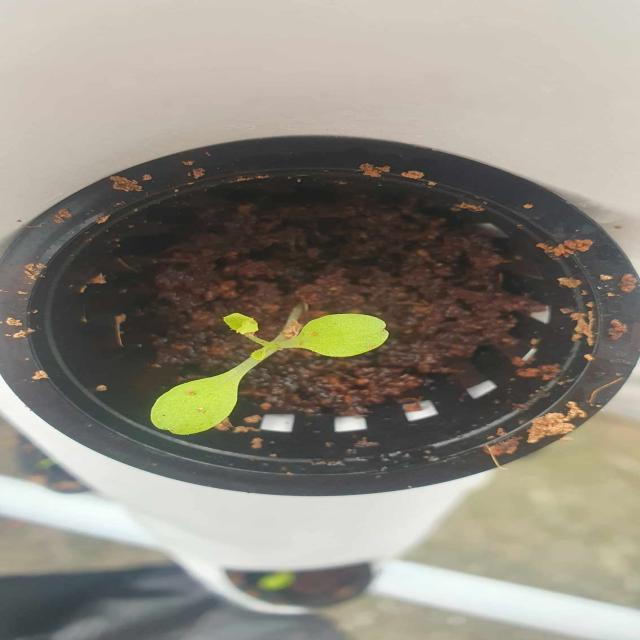Lettuce-Not-Ready-to-Harvest: (145, 280, 401, 443)
